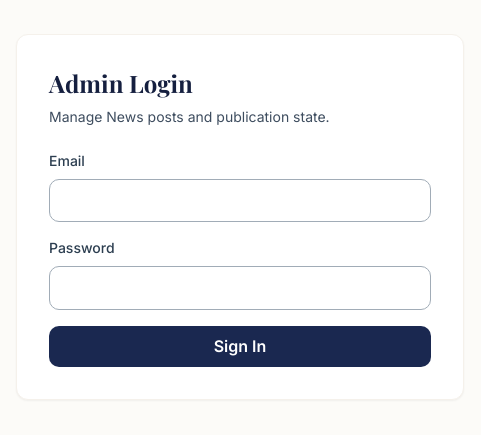
Scenario: ui: admin login page › shows error message on invalid credentials
The width and height of the screenshot is (481, 435).
Type "admin@test.com" into the field labelled "Email" at (240, 200), box 49,179 -> 431,222
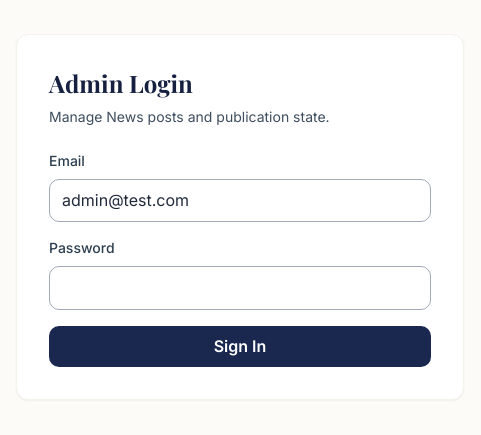
Type "bad" into the password field labelled "Password" at (240, 288), box 49,266 -> 431,310
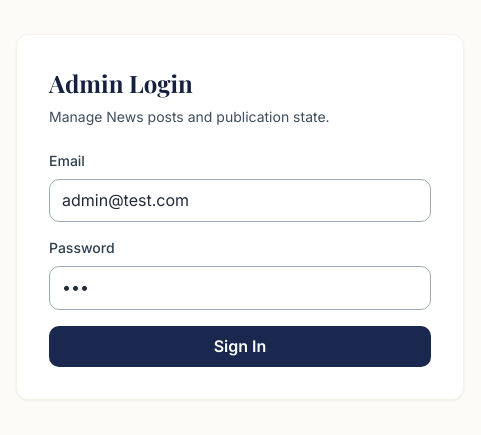
Click the button "Sign In" at (240, 347), box 49,326 -> 431,367
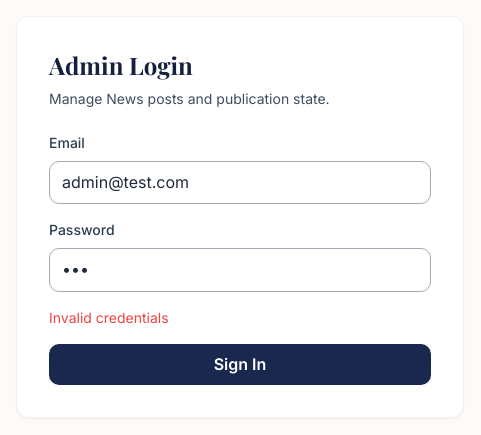
Expected: the text "Invalid credentials" is shown, 49,309 -> 169,326
